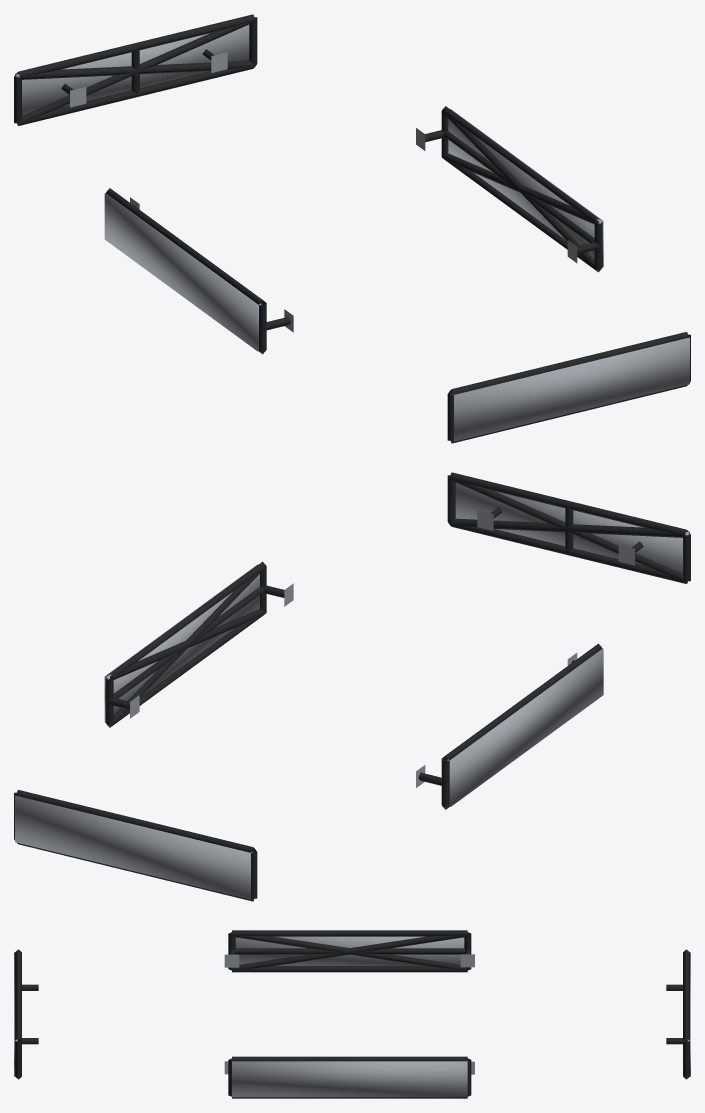
File: hayase_desfiladeiro_protecao.glb
3 views of the same model, one above another, from view 1: azimuth 30°, elevation 25°; view 2: azimuth 150°, elevation 25°; view 3: azimuth 270°, elevation 25° (orthographic). The views are drawn at different scales.
Parts seen in each view (by area): view 1: Protection_front_Level3_Details, Protection_left_Level3_Details, Protection_rear_Level3_Details, Protection_rear_Level1_Details, Protection_right_Level1_Details, Protection_rear_Level2_Details, Protection_right_Level2_Details, Protection_right_Level3_Details, Protection_front_Level1_Details, Protection_left_Level1_Details; view 2: Protection_rear_Level3_Details, Protection_left_Level3_Details, Protection_front_Level3_Details, Protection_front_Level1_Details, Protection_right_Level1_Details, Protection_front_Level2_Details, Protection_right_Level2_Details, Protection_right_Level3_Details, Protection_rear_Level1_Details, Protection_left_Level1_Details; view 3: Protection_right_Level3_Details, Protection_left_Level2_Details, Protection_left_Level1_Details, Protection_left_Level3_Details, Protection_right_Level1_Details, Protection_rear_Level1_Details, Protection_front_Level1_Details.
Part boxes in pixels (x1,y1,x2,y2): Protection_front_Level3_Details: [452, 337, 689, 441]; Protection_left_Level3_Details: [104, 193, 261, 351]; Protection_rear_Level3_Details: [15, 24, 249, 115]; Protection_rear_Level1_Details: [14, 14, 257, 125]; Protection_right_Level1_Details: [416, 106, 602, 272]; Protection_rear_Level2_Details: [16, 20, 254, 125]; Protection_right_Level2_Details: [442, 112, 601, 271]; Protection_right_Level3_Details: [448, 109, 603, 267]; Protection_front_Level1_Details: [447, 332, 690, 443]; Protection_left_Level1_Details: [106, 188, 293, 354]; Protection_rear_Level3_Details: [15, 795, 252, 899]; Protection_left_Level3_Details: [447, 648, 603, 806]; Protection_front_Level3_Details: [455, 482, 689, 573]; Protection_front_Level1_Details: [447, 472, 690, 583]; Protection_right_Level1_Details: [105, 561, 293, 727]; Protection_front_Level2_Details: [450, 478, 688, 583]; Protection_right_Level2_Details: [106, 567, 266, 727]; Protection_right_Level3_Details: [104, 564, 259, 722]; Protection_rear_Level1_Details: [14, 790, 257, 901]; Protection_left_Level1_Details: [416, 643, 602, 809]; Protection_right_Level3_Details: [232, 1061, 467, 1097]; Protection_left_Level2_Details: [231, 933, 467, 970]; Protection_left_Level1_Details: [224, 930, 474, 972]; Protection_left_Level3_Details: [235, 936, 464, 965]; Protection_right_Level1_Details: [224, 1056, 474, 1098]; Protection_rear_Level1_Details: [666, 949, 689, 1079]; Protection_front_Level1_Details: [15, 949, 38, 1079].
Size of the model in its own units: 2.35 by 0.354 by 5.17.
Materials: 1 (1 with a texture image).
